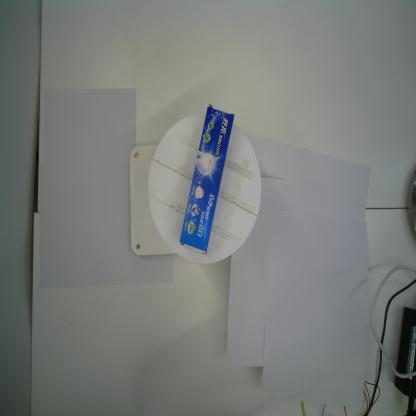Personal Hygiene: (178, 103, 235, 254)
